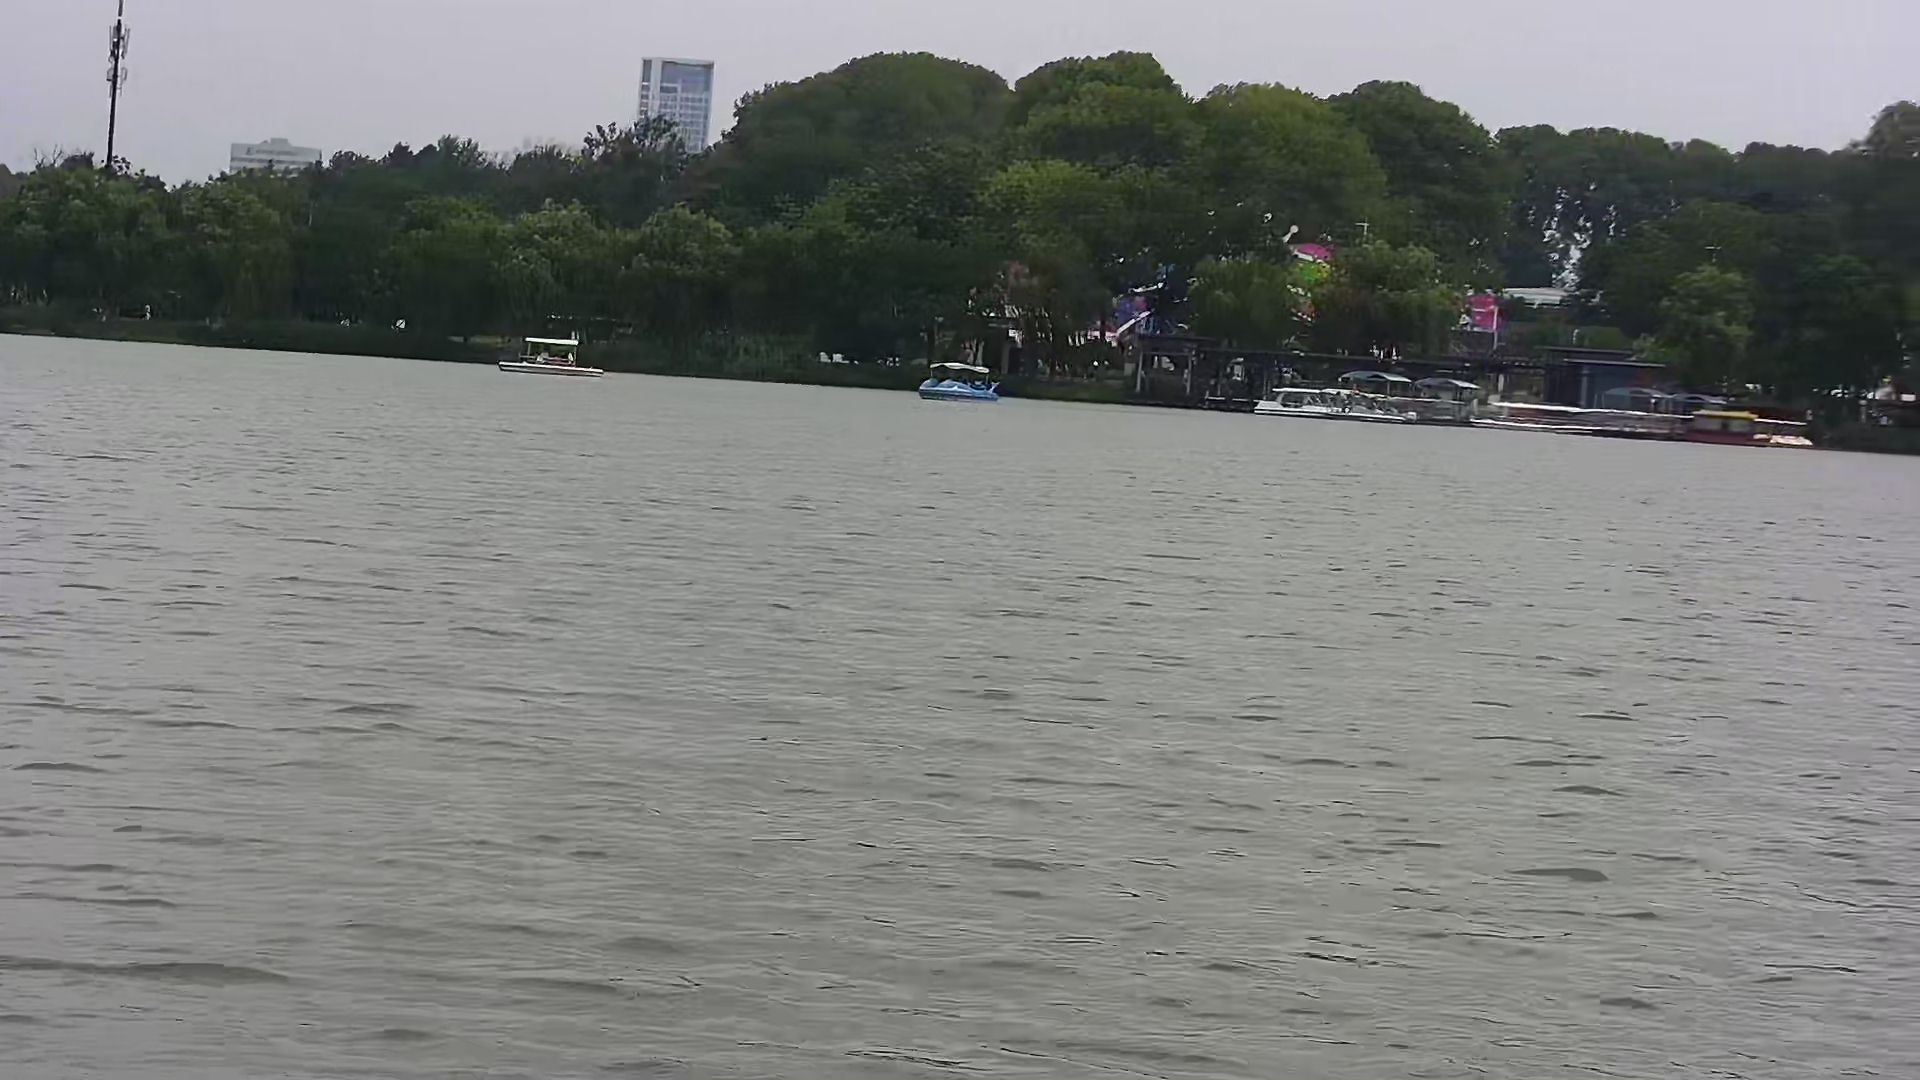boat: (491, 335, 603, 382), (916, 356, 1000, 413)
harbor: (1247, 363, 1822, 446)
